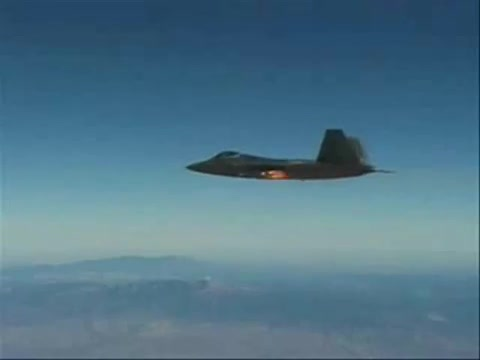aeroplane: (186, 129, 396, 182)
